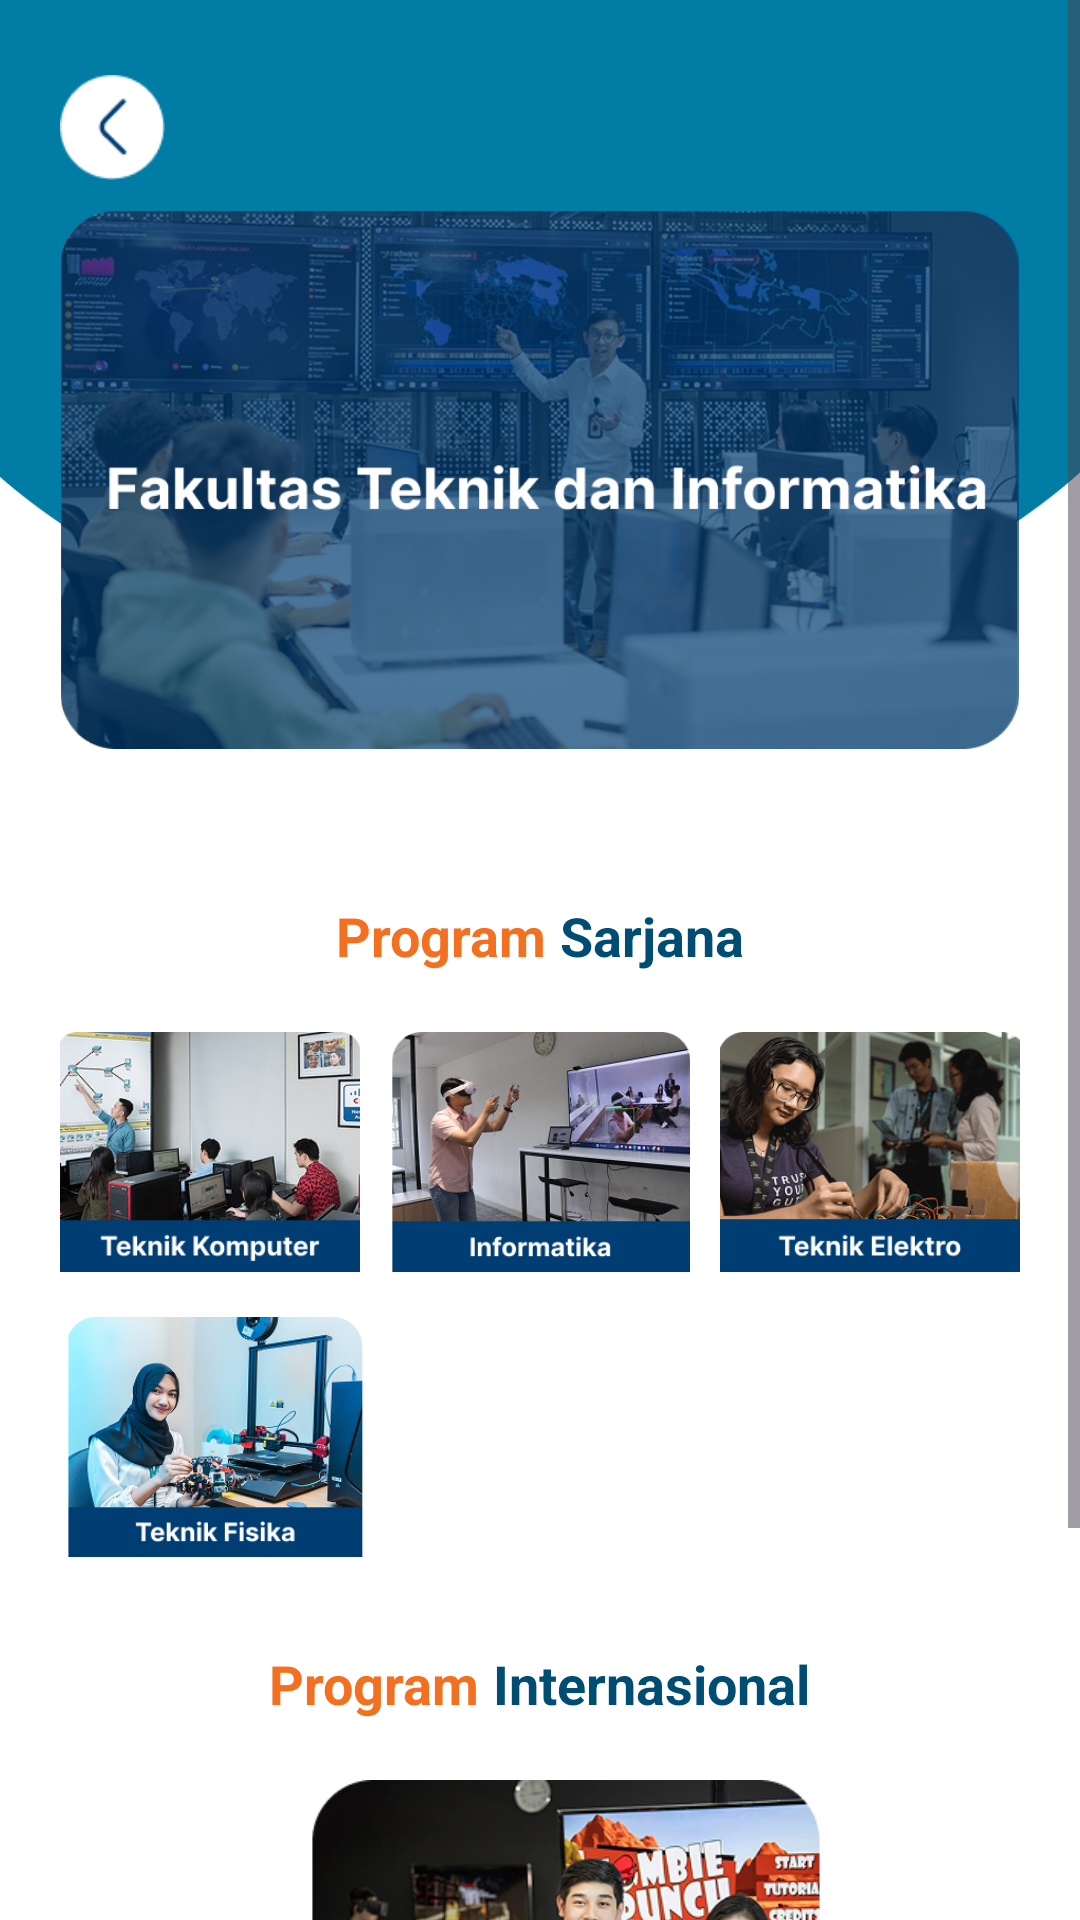

Where icons sit on this 1080px×1920px app screen, as [x1,y1,x2,y2]:
back: [60,75,165,180]
